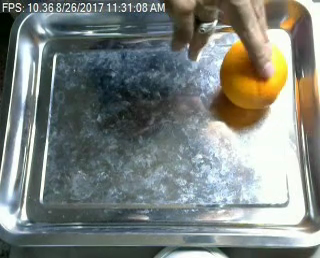Orange: (221, 41, 289, 110)
